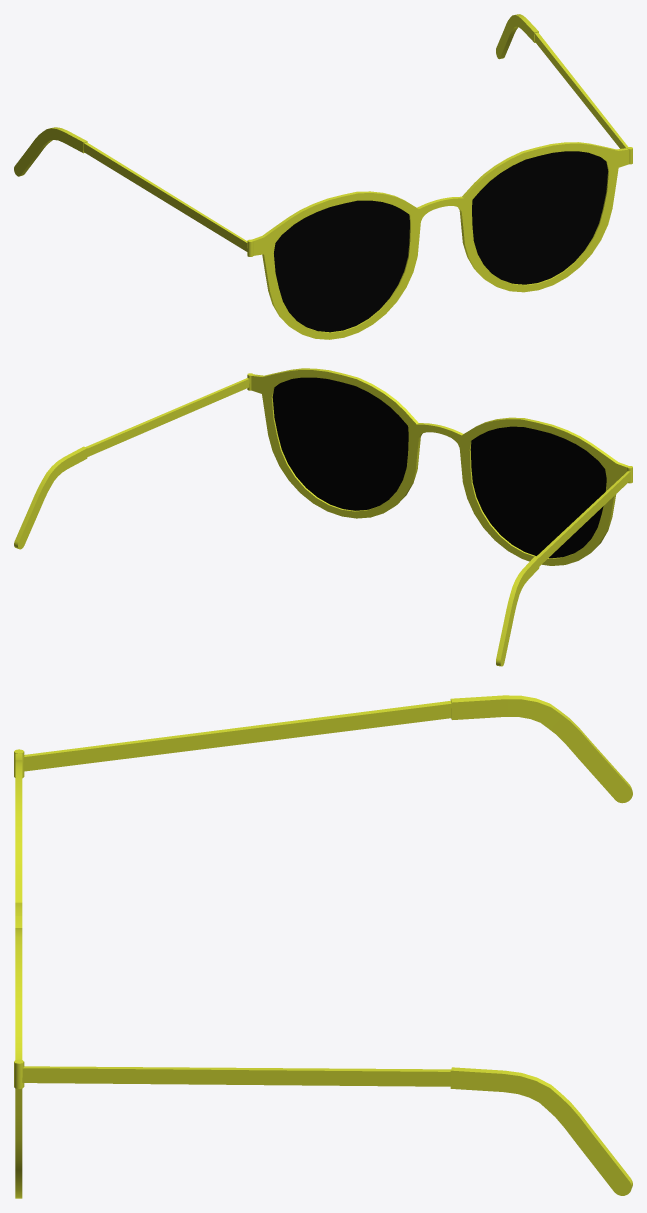
The model's file is glasses_realistic.glb.
3 views of the same model, one above another, from view 1: azimuth 30°, elevation 25°; view 2: azimuth 150°, elevation 25°; view 3: azimuth 270°, elevation 25° (orthographic). The views are drawn at different scales.
Visible parts, largest first — view 1: glasses1.001; view 2: glasses1.001; view 3: glasses1.001.
Boxes of the visible parts, box(x1,y1,x2,y2) form: glasses1.001: box(14, 14, 632, 339); glasses1.001: box(14, 368, 632, 666); glasses1.001: box(14, 695, 632, 1198).
Size of the model in its own units: 0.363 by 0.1008 by 0.2389.
